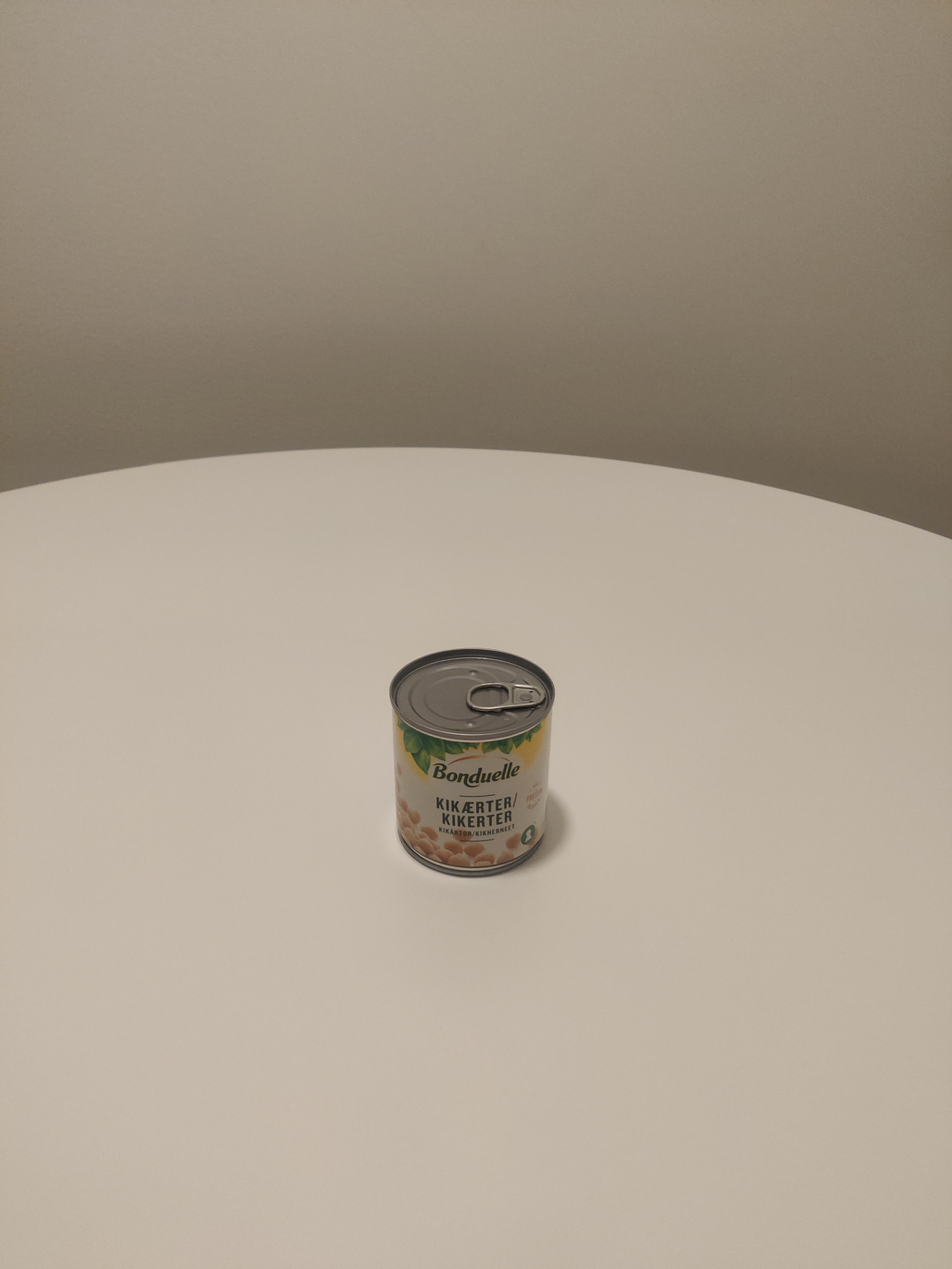Konservburk: (326, 555, 613, 942)
